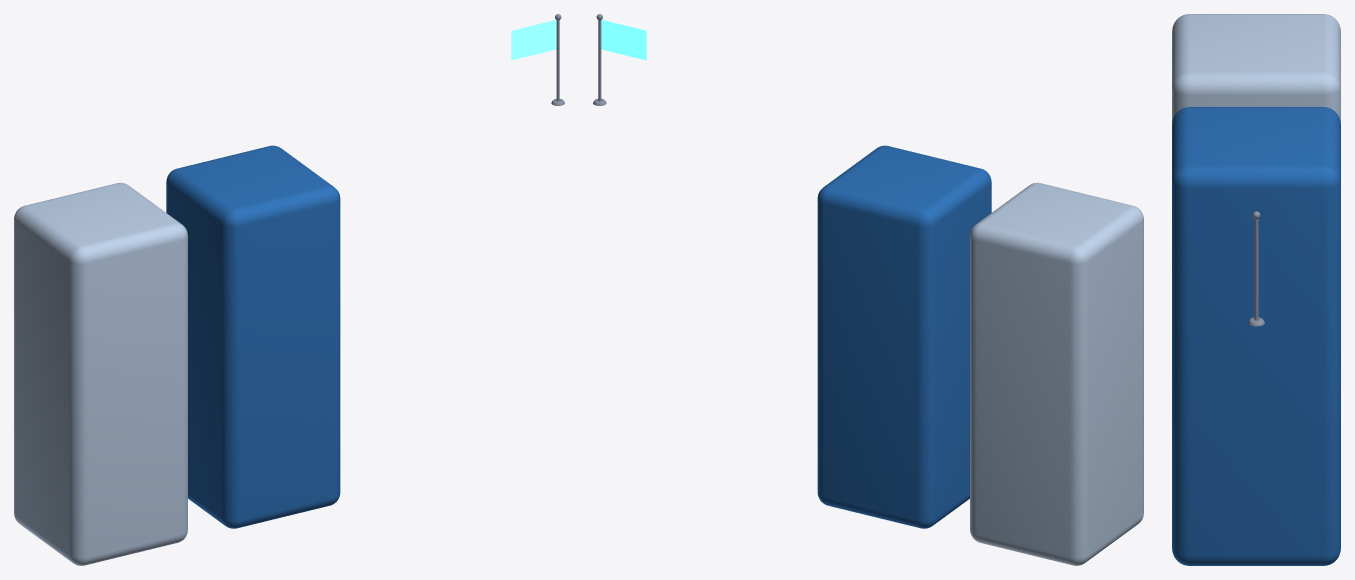
Rendered from career.glb.
3 renders of one model, left to right at view 1: azimuth 30°, elevation 25°; view 2: azimuth 150°, elevation 25°; view 3: azimuth 270°, elevation 25°, orthographic. The views are drawn at different scales.
Visible parts, largest first — view 1: block, blockNow, flagCloth; view 2: block, blockNow, flagCloth; view 3: blockNow, block, flagPole.
Boxes of the visible parts, x1,y1,x2,y2 form: block: [14, 182, 187, 565]; blockNow: [166, 145, 340, 528]; flagCloth: [511, 20, 556, 60]; block: [970, 182, 1143, 565]; blockNow: [817, 145, 991, 528]; flagCloth: [601, 20, 646, 60]; blockNow: [1172, 107, 1340, 565]; block: [1172, 14, 1340, 123]; flagPole: [1248, 211, 1264, 326].
Size of the model in its own units: 10.27 by 7.67 by 2.3.
